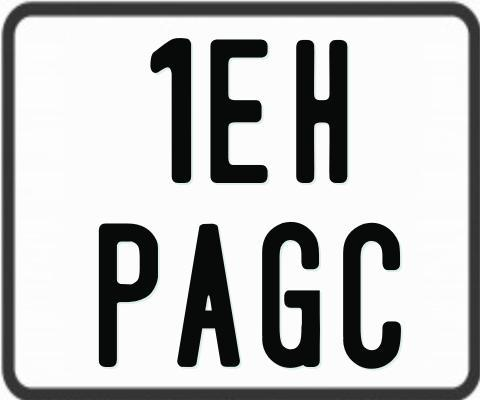1: (150, 38, 196, 183)
A: (175, 222, 241, 369)
C: (340, 220, 401, 370)
E: (208, 37, 268, 185)
G: (262, 221, 321, 367)
H: (296, 39, 350, 187)
P: (99, 222, 160, 367)
